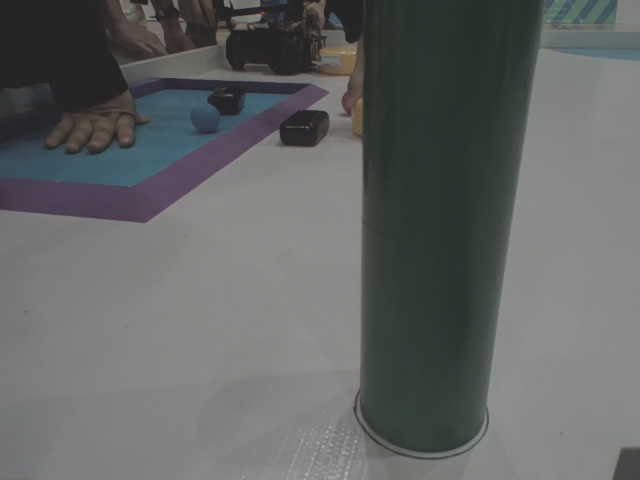black: (279, 96, 334, 157), (204, 78, 249, 114)
blue: (187, 102, 225, 138)
kuang: (1, 65, 332, 235)
yellow: (318, 40, 375, 79)
zhuzi: (355, 3, 552, 465)
